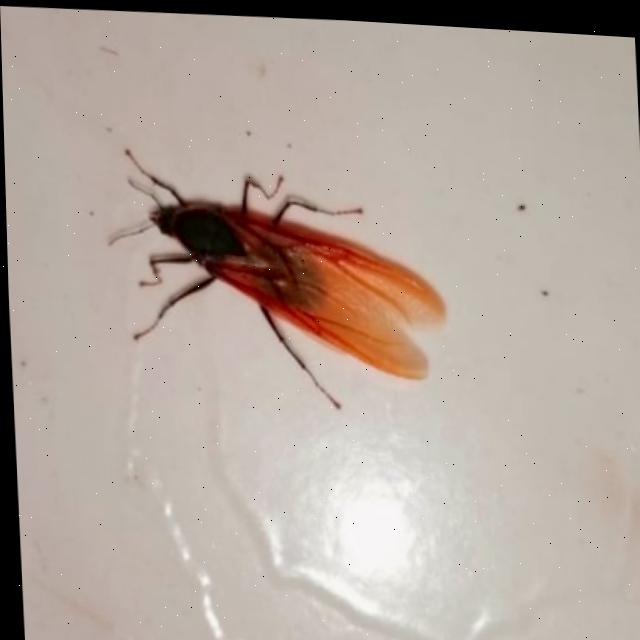Alive-Male-Alate: (101, 140, 449, 415)
